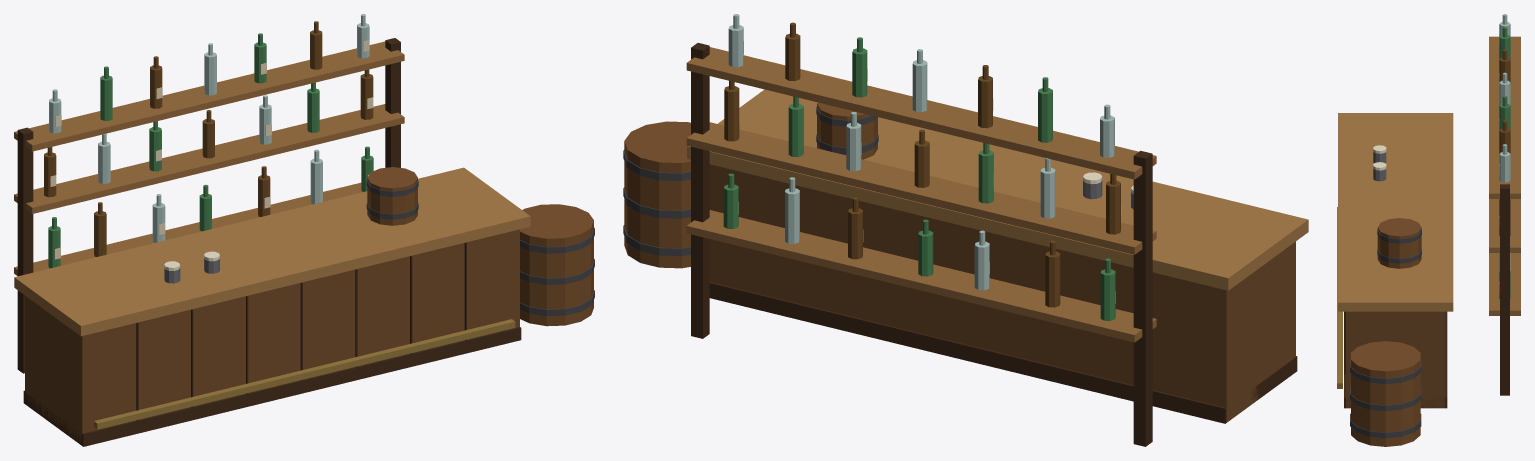
The model's file is inn_bar.obj.
The picture shows the model from 3 angles, left to right: view 1: azimuth 30°, elevation 25°; view 2: azimuth 150°, elevation 25°; view 3: azimuth 270°, elevation 25°; orthographic projection. The views are drawn at different scales.
Parts seen in each view (by area): view 1: geometry_0, geometry_1, geometry_13, geometry_12, geometry_73, geometry_9, geometry_10, geometry_14, geometry_11, geometry_70, geometry_15, geometry_19 (+3 smaller); view 2: geometry_0, geometry_1, geometry_12, geometry_13, geometry_11, geometry_9, geometry_73, geometry_14, geometry_15, geometry_70, geometry_19, geometry_49 (+17 smaller); view 3: geometry_1, geometry_73, geometry_0, geometry_13, geometry_15, geometry_70, geometry_11, geometry_12, geometry_10, geometry_75, geometry_76, geometry_74 (+9 smaller).
Boxes of the visible parts, box(x1,y1,x2,y2) form: geometry_0: box(25, 229, 519, 444); geometry_1: box(14, 167, 530, 336); geometry_13: box(14, 41, 404, 151); geometry_12: box(14, 104, 404, 213); geometry_73: box(520, 204, 593, 326); geometry_9: box(23, 327, 521, 446); geometry_10: box(94, 319, 515, 429); geometry_14: box(17, 127, 33, 373); geometry_11: box(14, 182, 362, 275); geometry_70: box(367, 167, 417, 225); geometry_15: box(385, 38, 400, 167); geometry_19: box(94, 211, 106, 256); geometry_0: box(709, 164, 1295, 422); geometry_1: box(687, 89, 1308, 290); geometry_12: box(686, 122, 1156, 254); geometry_13: box(686, 47, 1156, 179); geometry_11: box(686, 210, 1156, 342); geometry_9: box(709, 282, 1297, 423); geometry_73: box(624, 121, 690, 268); geometry_14: box(1133, 150, 1152, 446); geometry_15: box(691, 43, 709, 338); geometry_70: box(817, 102, 877, 159); geometry_19: box(1045, 251, 1060, 307); geometry_49: box(724, 86, 739, 141); geometry_1: box(1338, 113, 1453, 311); geometry_73: box(1351, 341, 1420, 446); geometry_0: box(1346, 311, 1445, 408); geometry_13: box(1489, 36, 1520, 198); geometry_15: box(1500, 184, 1509, 395); geometry_70: box(1377, 218, 1421, 268); geometry_11: box(1489, 253, 1520, 315); geometry_12: box(1489, 199, 1520, 252); geometry_10: box(1337, 207, 1342, 388); geometry_75: box(1350, 386, 1421, 411); geometry_76: box(1350, 359, 1421, 384); geometry_74: box(1350, 413, 1421, 438).
Bounding box in the file's own units: 2.69 × 1.36 × 0.925.
